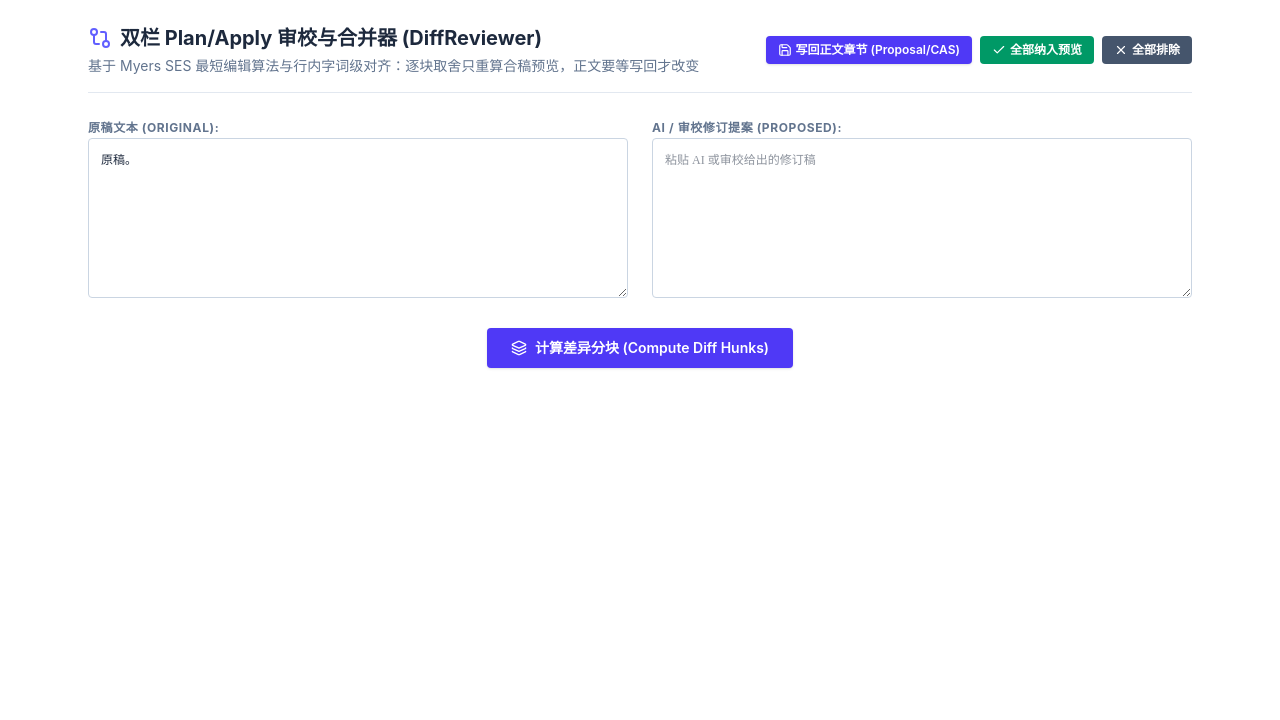
Test case: DiffReviewer UI Components › records reviewed writeback as a durable proposal and supports undo
The width and height of the screenshot is (1280, 720).
§P2.4：修订稿不再预置示例文本，作者给什么才算什么。
In the text box with placeholder "粘贴 AI 或审校给出的修订稿": (922, 218) [652,138,1192,298], type "原稿修订。"
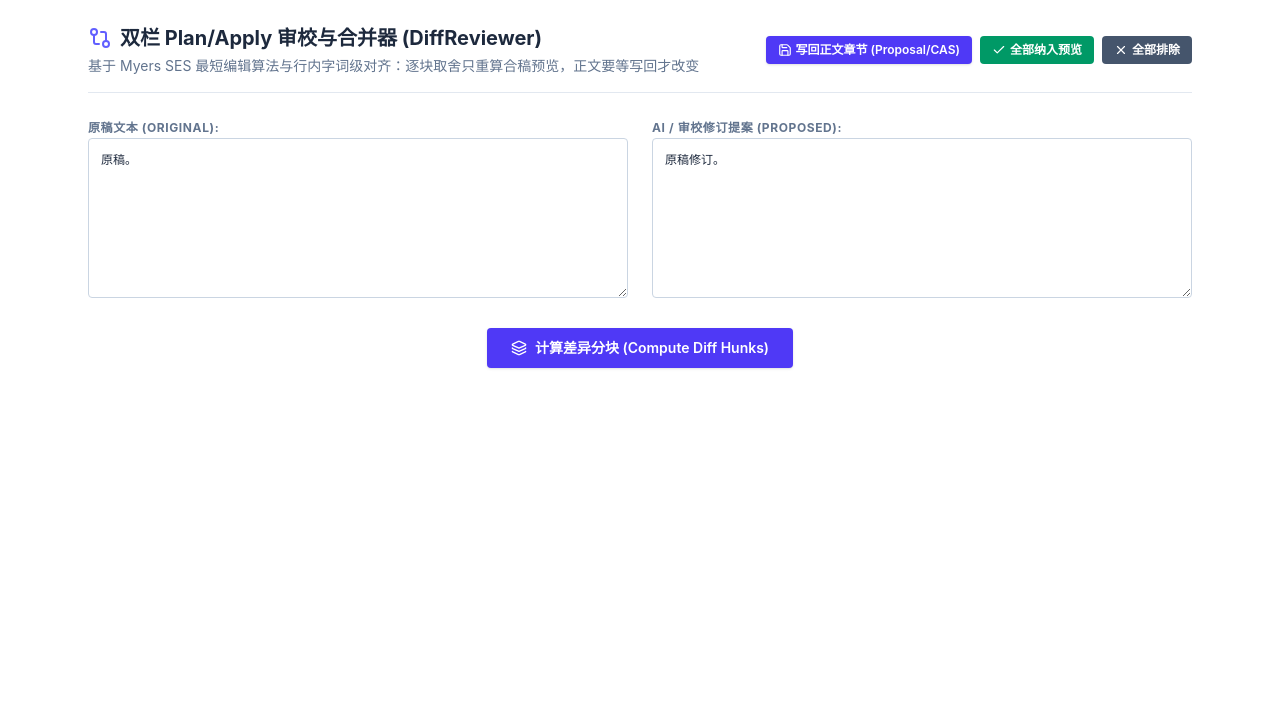
Click the button "计算差异分块 (Compute Diff Hunks)": (640, 348) [487,328,793,368]
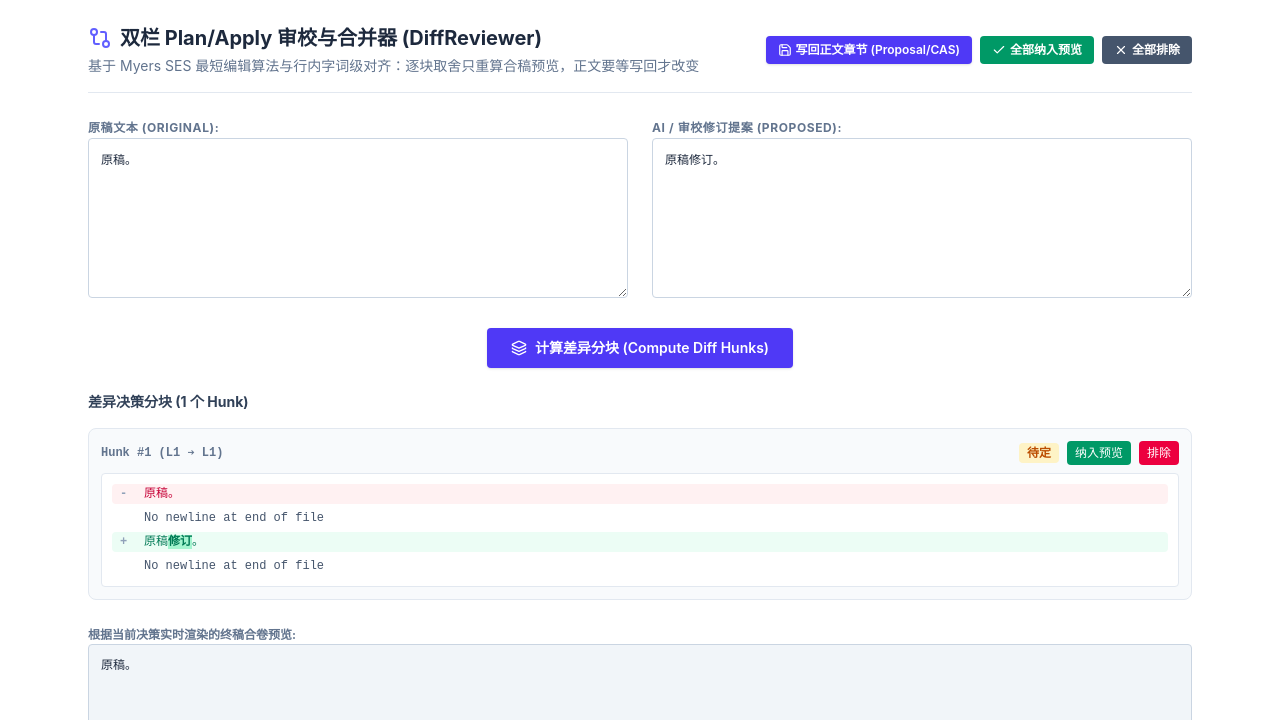
Result: the heading "差异决策分块 (1 个 Hunk)" is shown at [88,393,249,410]
Click the button "全部纳入预览": (1037, 50) [980,36,1094,64]
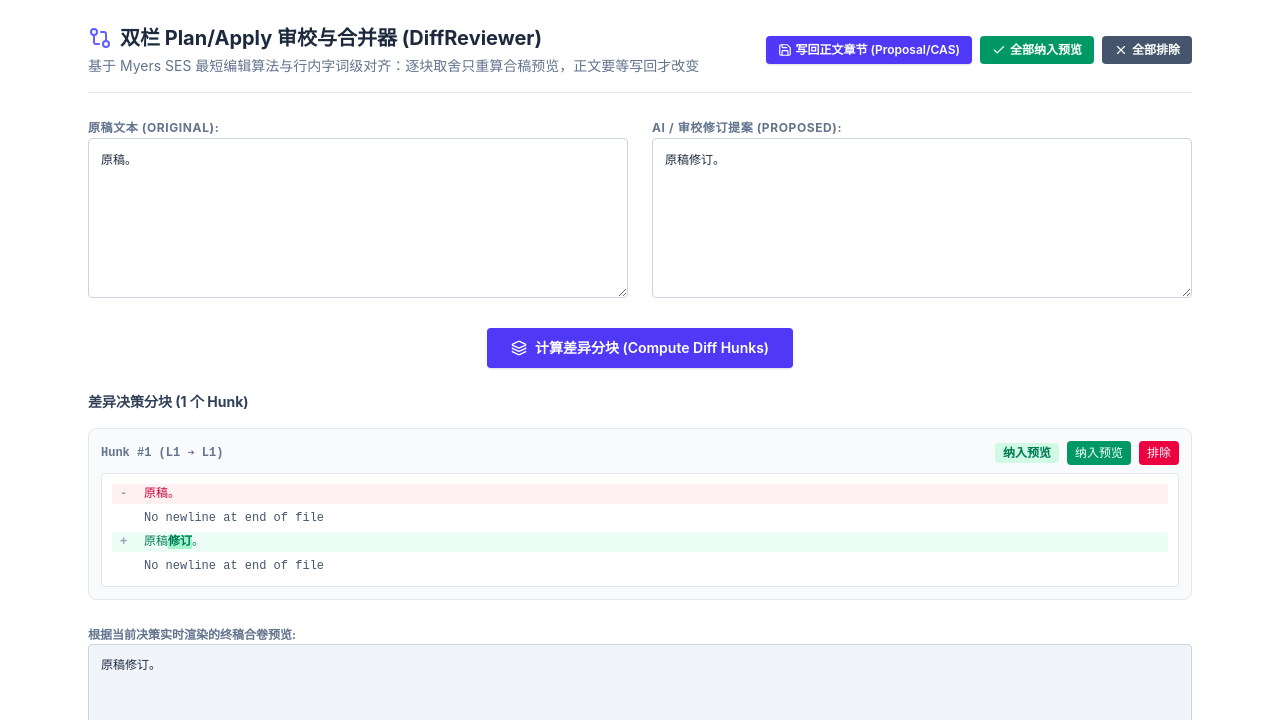
Expected: the text "写回状态" is not shown
Click the button "写回正文章节 (Proposal/CAS)": (869, 50) [766,36,972,64]
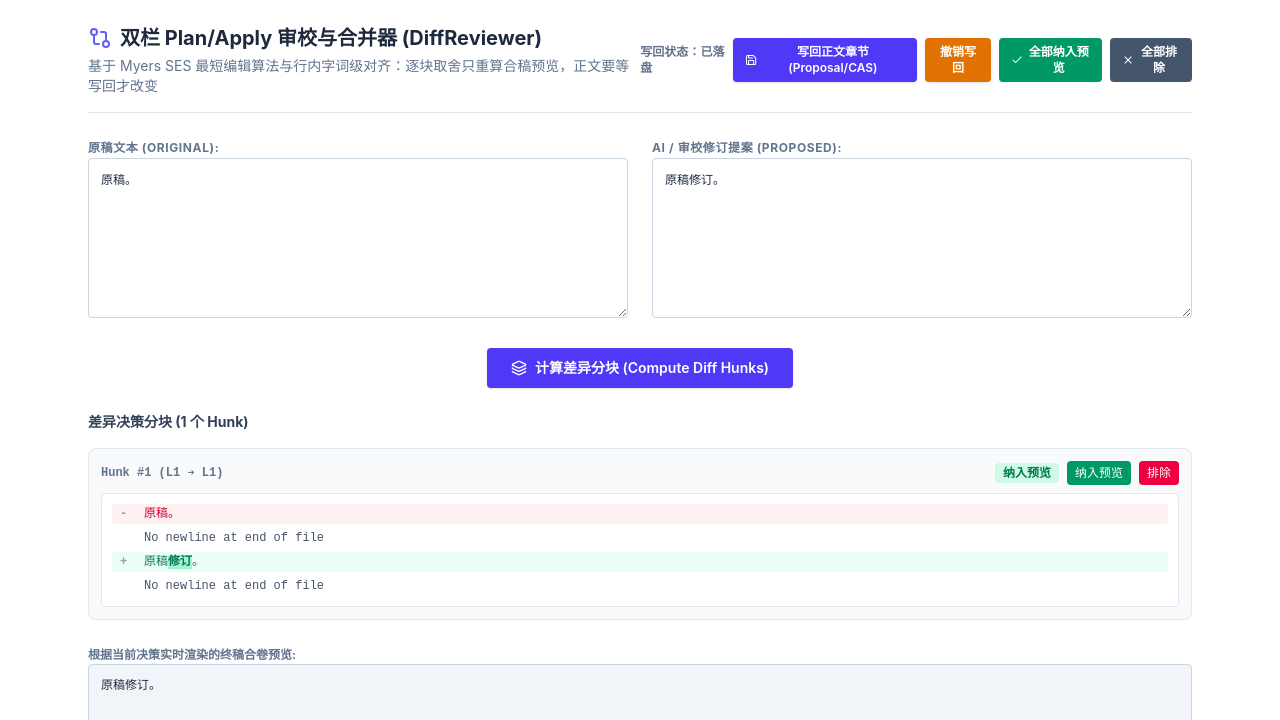
Result: the button "撤销写回" is shown
Result: the text "写回状态：已落盘" is shown at [640,44,725,76]
Click the button "撤销写回": (958, 60) [925,38,991,82]
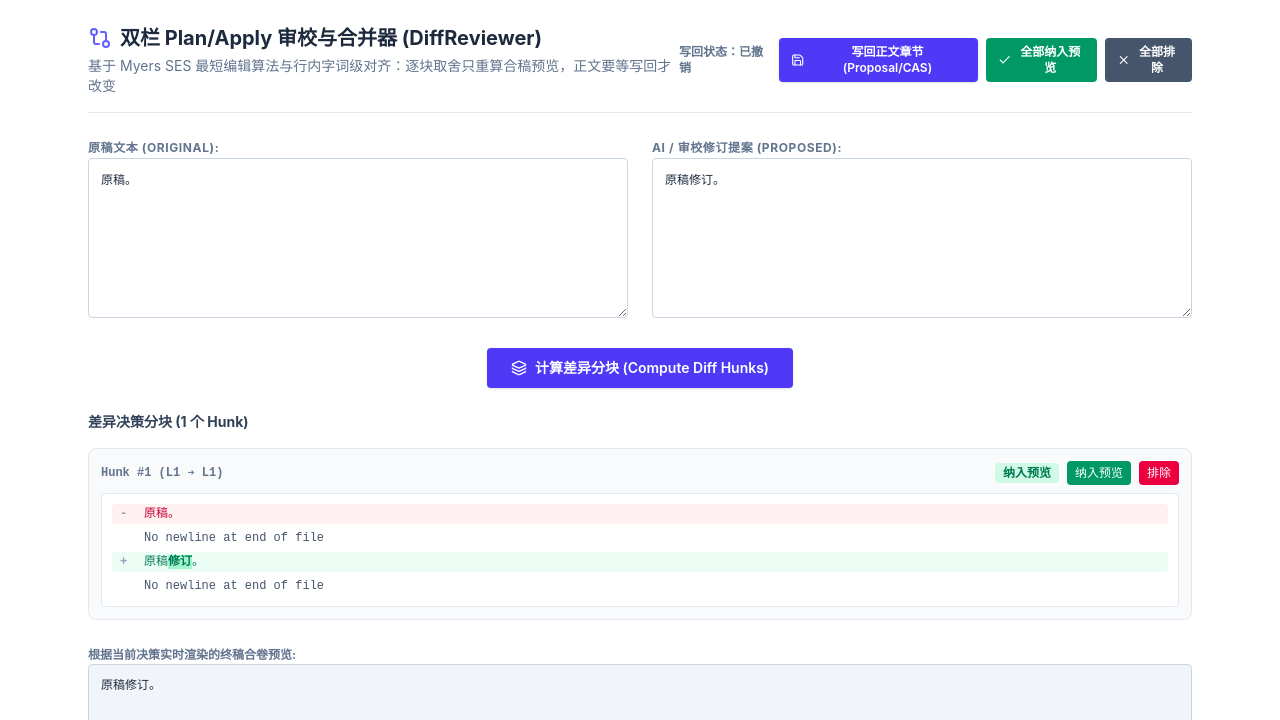
Result: the button "写回正文章节 (Proposal/CAS)" is enabled at [779,38,978,82]
